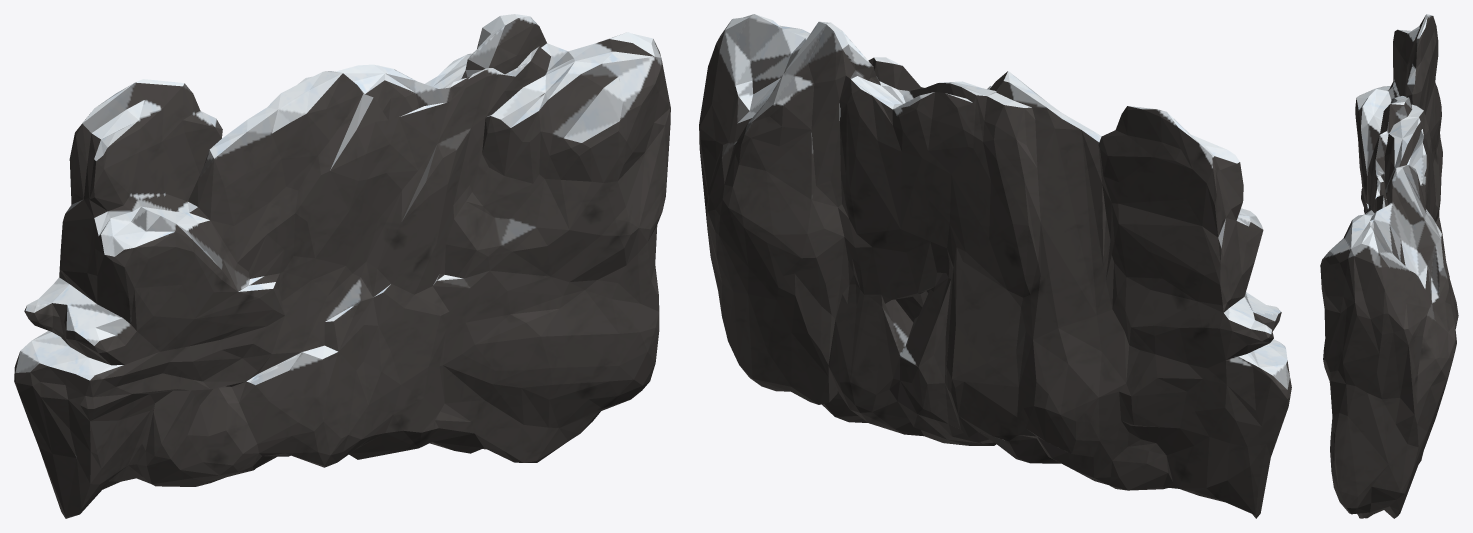
The model's file is pass_wall_d.gltf.
3 renders of one model, left to right at view 1: azimuth 30°, elevation 25°; view 2: azimuth 150°, elevation 25°; view 3: azimuth 270°, elevation 25°, orthographic. The views are drawn at different scales.
Parts seen in each view (by area): view 1: pass_wall_d; view 2: pass_wall_d; view 3: pass_wall_d.
Boxes of the visible parts, bbox=[...] form: pass_wall_d: bbox=[14, 14, 670, 518]; pass_wall_d: bbox=[699, 14, 1291, 518]; pass_wall_d: bbox=[1320, 14, 1458, 518].
Size of the model in its own units: 10.78 by 7.25 by 2.53.
Materials: 1 (1 with a texture image).
